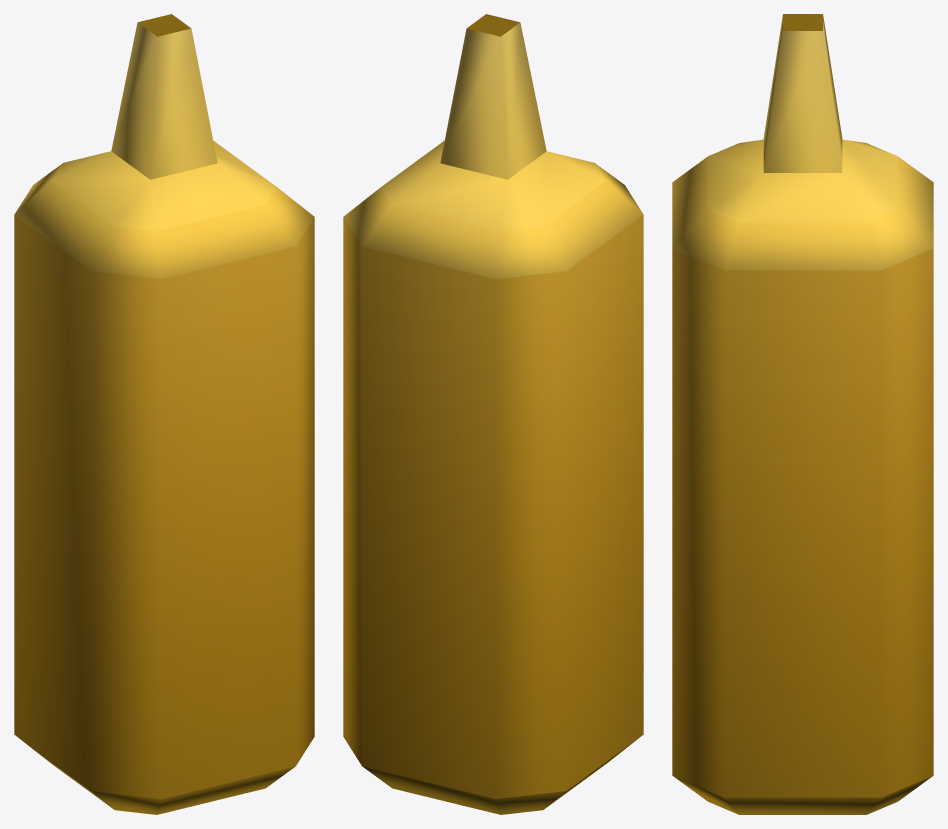
The model's file is mustard.fbx.
The picture shows the model from 3 angles, left to right: view 1: azimuth 30°, elevation 25°; view 2: azimuth 150°, elevation 25°; view 3: azimuth 270°, elevation 25°; orthographic projection.
Parts seen in each view (by area): view 1: mustard; view 2: mustard; view 3: mustard.
Part boxes in pixels (<box>): mustard: <box>14,14,314,814</box>; mustard: <box>343,14,643,814</box>; mustard: <box>672,14,933,814</box>.
Bounding box in the file's own units: 20 × 63.58 × 20.
